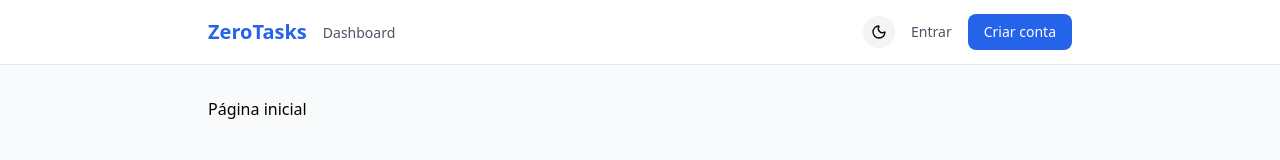
Main layout › navegar para a página de login ao clicar em Entrar
This screenshot has width=1280, height=160.
Click the link "Entrar". click: (931,32)
box: [911,22,952,42]
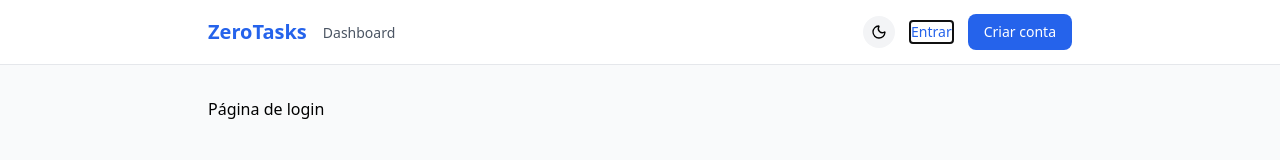
Result: the text "Página de login" is shown at [208,98,324,120]
